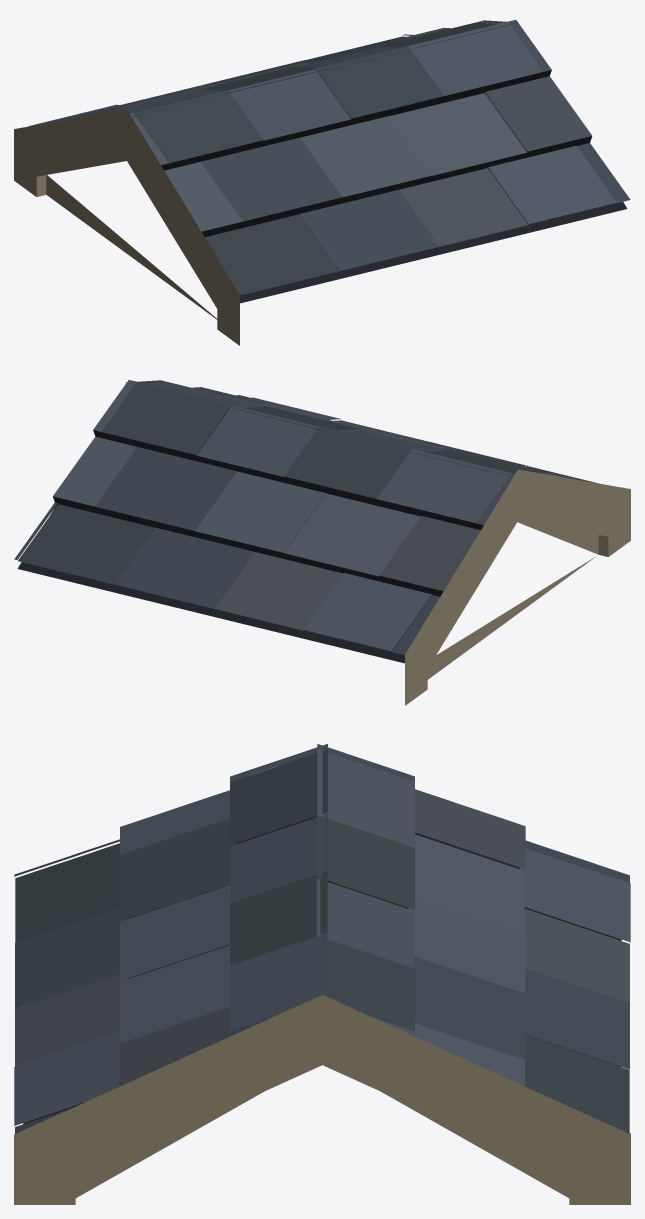
The model's file is roof-gable-top-slate.glb.
3 renders of one model, top to bottom at view 1: azimuth 30°, elevation 25°; view 2: azimuth 150°, elevation 25°; view 3: azimuth 270°, elevation 25°, orthographic. The views are drawn at different scales.
Parts seen in each view (by area): view 1: roof-gable-top-slate; view 2: roof-gable-top-slate; view 3: roof-gable-top-slate.
Boxes of the visible parts, box(x1,y1,x2,y2) form: roof-gable-top-slate: box(14, 19, 630, 345); roof-gable-top-slate: box(14, 380, 630, 705); roof-gable-top-slate: box(14, 744, 630, 1204).
Size of the model in its own units: 1 by 0.3759 by 1.
